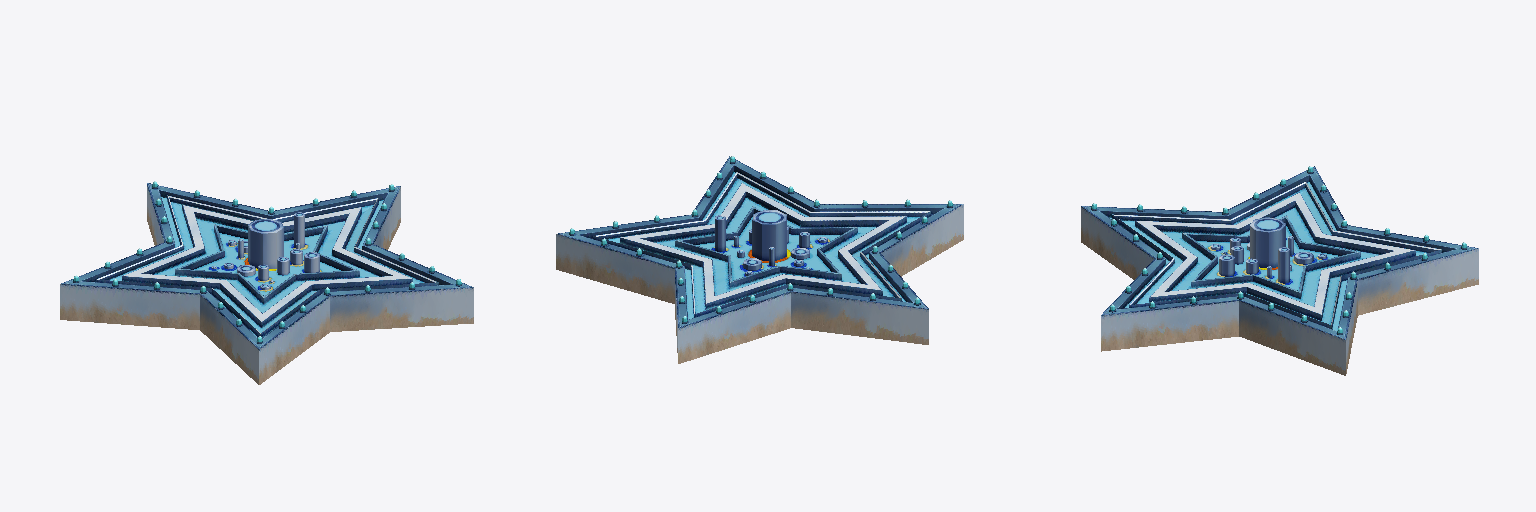
The picture shows the model from 3 angles: view 1: azimuth 30°, elevation 25°; view 2: azimuth 150°, elevation 25°; view 3: azimuth 270°, elevation 25°; orthographic projection.
Parts seen in each view (by area): view 1: LeisureWorld01_penquan01(Clone); view 2: LeisureWorld01_penquan01(Clone); view 3: LeisureWorld01_penquan01(Clone).
Boxes of the visible parts, x1,y1,x2,y2 form: LeisureWorld01_penquan01(Clone): [60, 181, 473, 384]; LeisureWorld01_penquan01(Clone): [556, 156, 963, 363]; LeisureWorld01_penquan01(Clone): [1081, 166, 1478, 375].
Size of the model in its own units: 10.87 by 1.93 by 10.51.
1 materials, 1 textured.